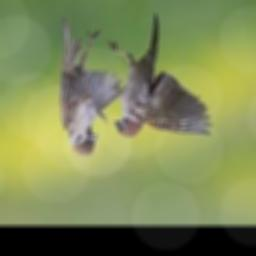Sparrow: (106, 13, 213, 137), (60, 17, 124, 157)
